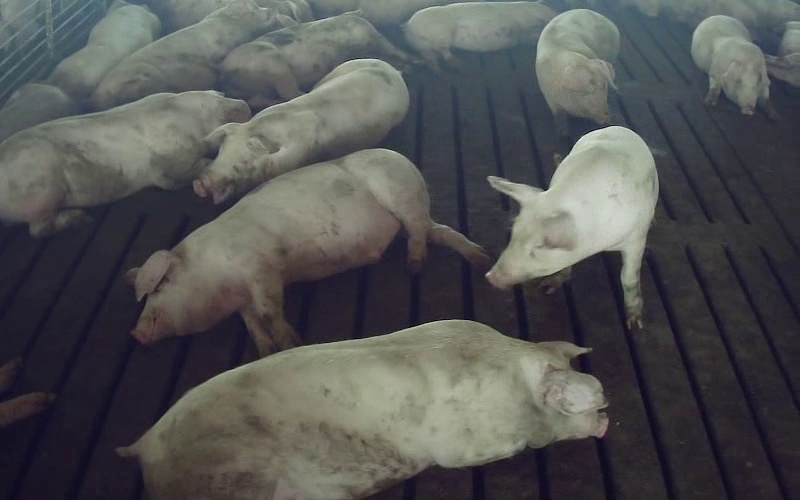pig: (119, 321, 607, 499), (128, 149, 488, 355), (0, 91, 250, 235), (486, 126, 658, 327), (193, 60, 408, 203), (90, 0, 295, 110), (219, 12, 411, 110), (47, 2, 160, 102), (536, 9, 618, 137), (404, 2, 555, 70), (691, 15, 776, 118)
